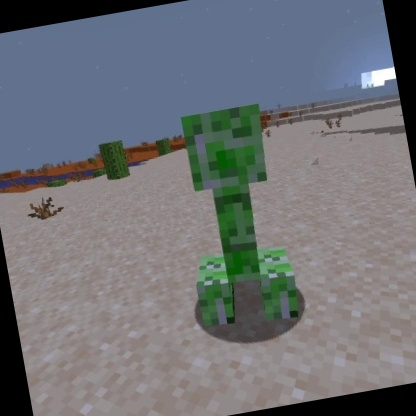creeper: (161, 96, 306, 339)
